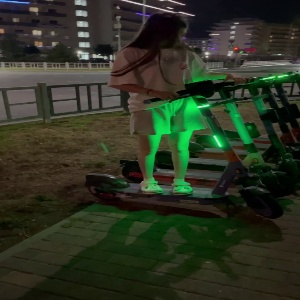human on a scooter: (82, 10, 287, 222)
